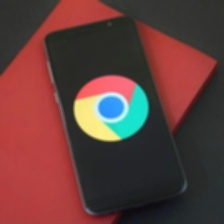phone: (40, 10, 191, 220)
